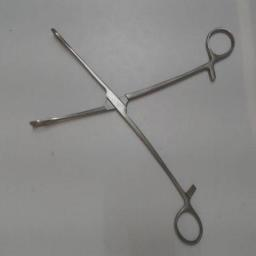Sponge Forceps: (25, 19, 239, 251)
